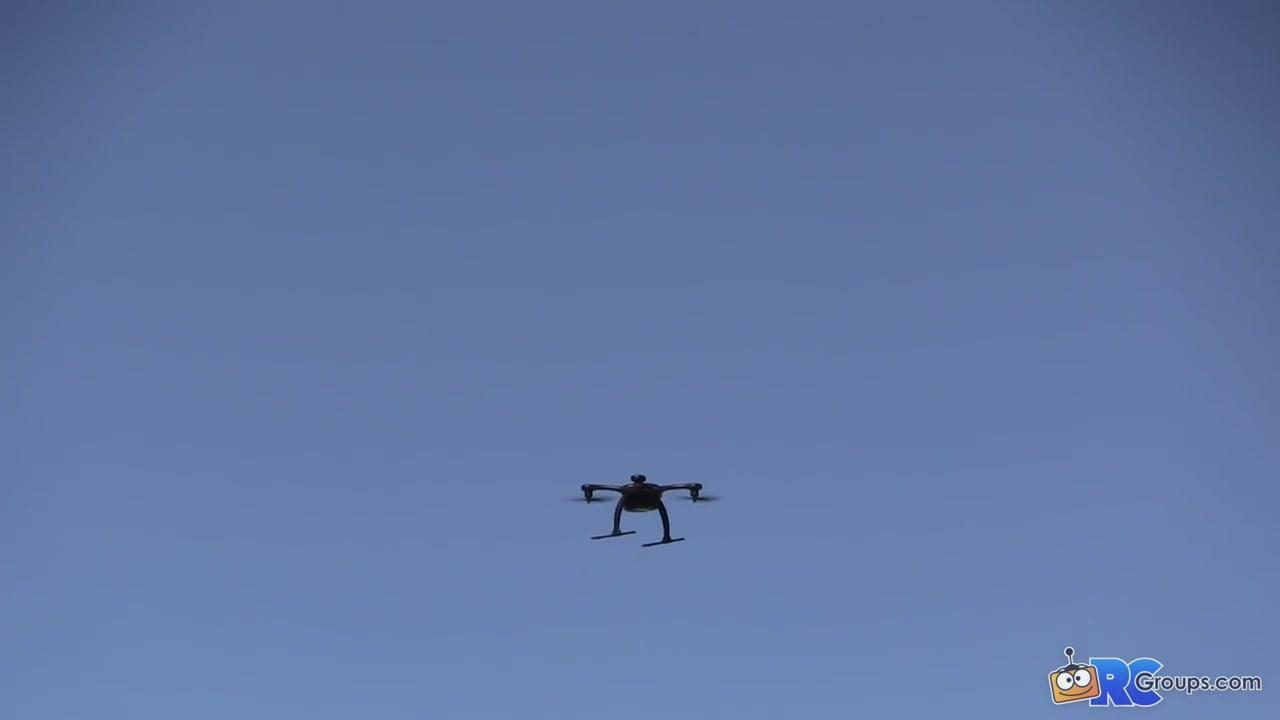UAV: (567, 475, 722, 548)
